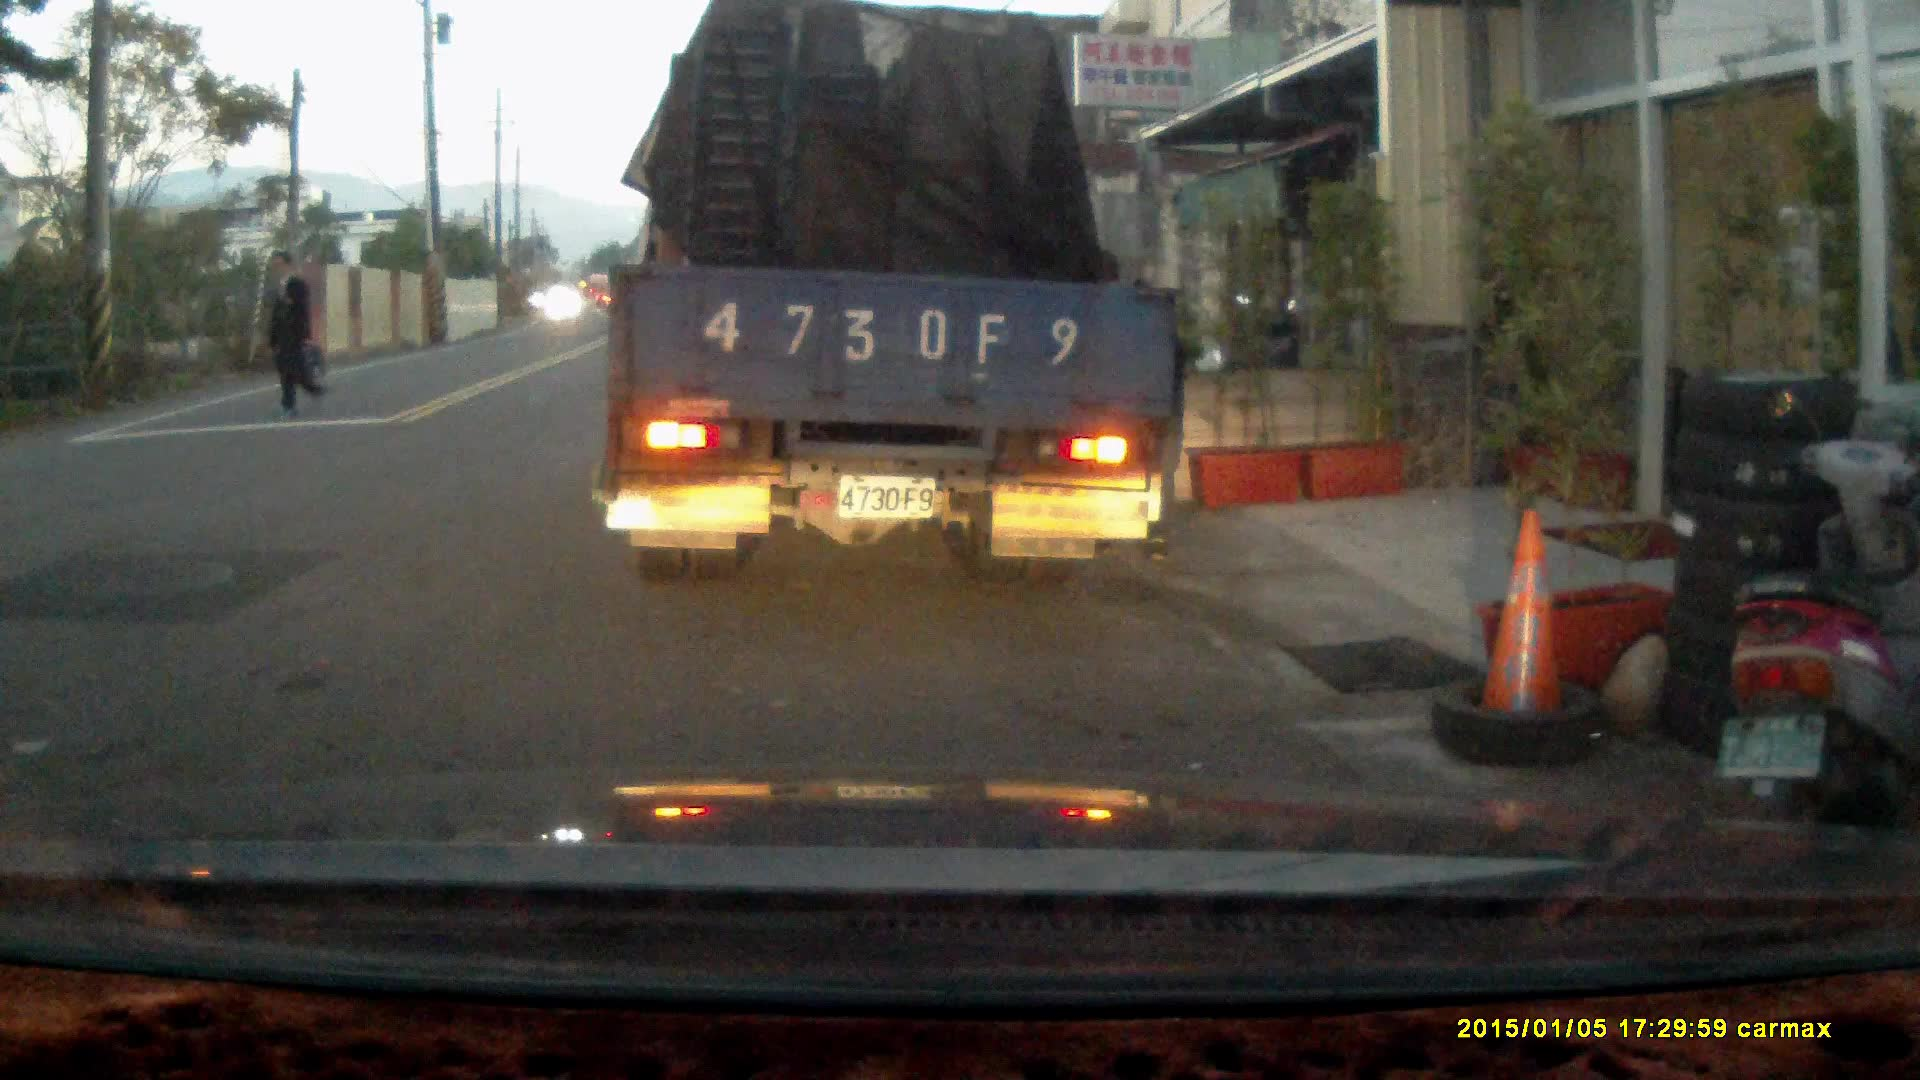pedestrian: (258, 248, 334, 422)
vehicle: (604, 23, 1188, 572)
